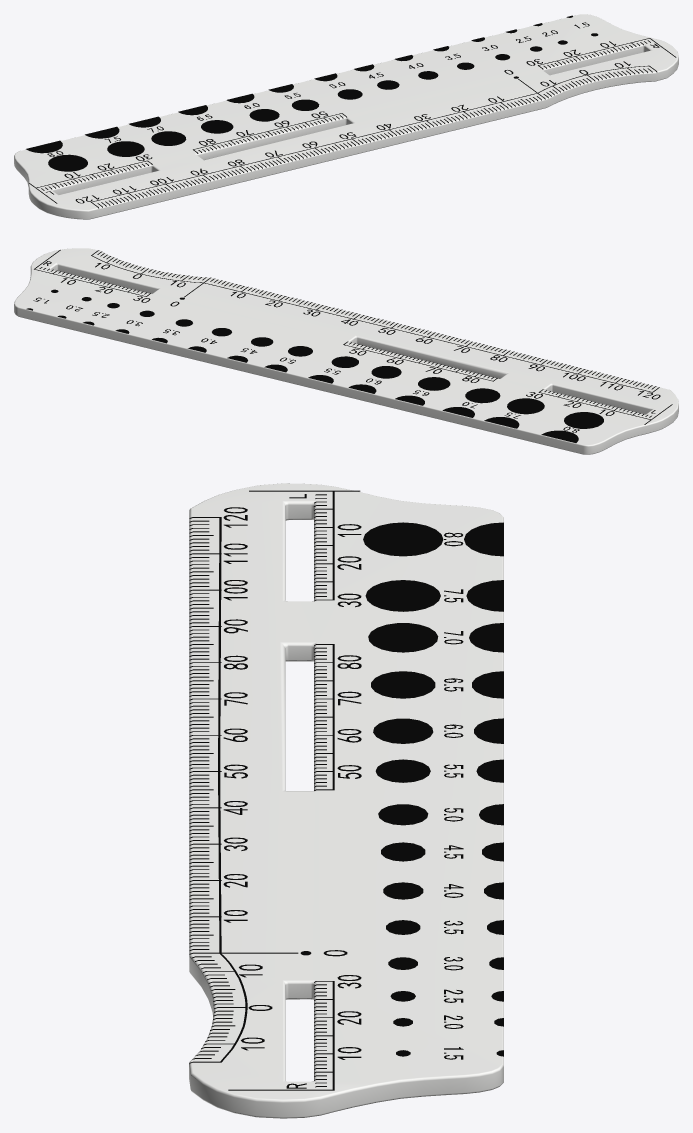
Rendered from tongKongDaXiaoCeLiangChi.fbx.
3 renders of one model, top to bottom at view 1: azimuth 30°, elevation 25°; view 2: azimuth 150°, elevation 25°; view 3: azimuth 270°, elevation 25°, orthographic. The views are drawn at different scales.
Parts seen in each view (by area): view 1: tongKongDaXiaoCeLiangChi_Mesh, Plane_zi_Mesh; view 2: tongKongDaXiaoCeLiangChi_Mesh, Plane_zi_Mesh; view 3: tongKongDaXiaoCeLiangChi_Mesh, Plane_zi_Mesh.
Boxes of the visible parts, x1,y1,x2,y2 form: tongKongDaXiaoCeLiangChi_Mesh: (14, 14, 678, 219); Plane_zi_Mesh: (26, 15, 676, 208); tongKongDaXiaoCeLiangChi_Mesh: (14, 248, 678, 454); Plane_zi_Mesh: (26, 250, 672, 442); tongKongDaXiaoCeLiangChi_Mesh: (189, 483, 503, 1118); Plane_zi_Mesh: (189, 490, 503, 1090).
Size of the model in its own units: 17.02 by 0.2557 by 3.67.
